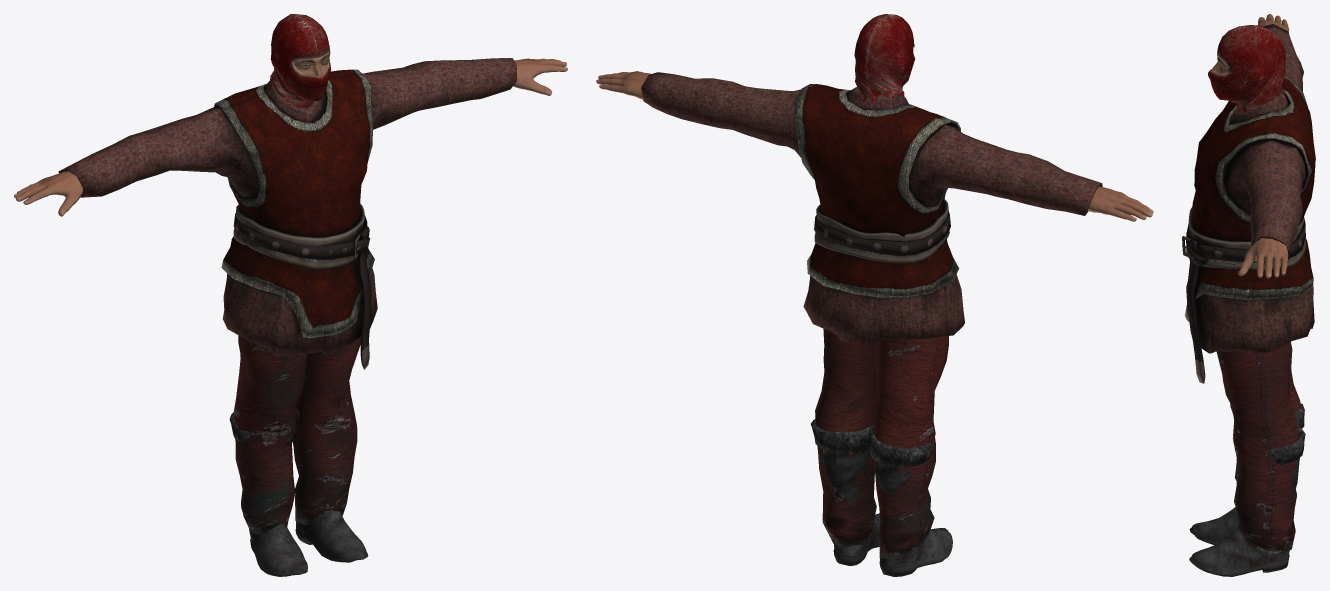
The model's file is redmourne1.obj.
3 renders of one model, left to right at view 1: azimuth 30°, elevation 25°; view 2: azimuth 150°, elevation 25°; view 3: azimuth 270°, elevation 25°, orthographic. The views are drawn at different scales.
Visible parts, largest first — view 1: Tops, Bottoms, Shoes, Masks, Body; view 2: Tops, Bottoms, Shoes, Masks, Body; view 3: Tops, Bottoms, Masks, Shoes, Body.
Part boxes in pixels (left/top/right/bottom): Tops: left=58, top=58, right=516, bottom=369; Bottoms: left=233, top=335, right=360, bottom=534; Shoes: left=229, top=408, right=368, bottom=576; Masks: left=265, top=14, right=330, bottom=107; Body: left=14, top=52, right=567, bottom=216; Tops: left=641, top=72, right=1102, bottom=343; Bottoms: left=815, top=328, right=948, bottom=558; Shoes: left=811, top=419, right=952, bottom=576; Masks: left=854, top=14, right=914, bottom=107; Body: left=596, top=71, right=1153, bottom=221; Tops: left=1182, top=24, right=1315, bottom=383; Bottoms: left=1216, top=341, right=1300, bottom=556; Masks: left=1208, top=25, right=1285, bottom=112; Shoes: left=1189, top=403, right=1305, bottom=576; Body: left=1212, top=14, right=1289, bottom=278.
Bounding box in the file's own units: 194 × 181 × 41.46.
Materials: 5 (5 with a texture image).
